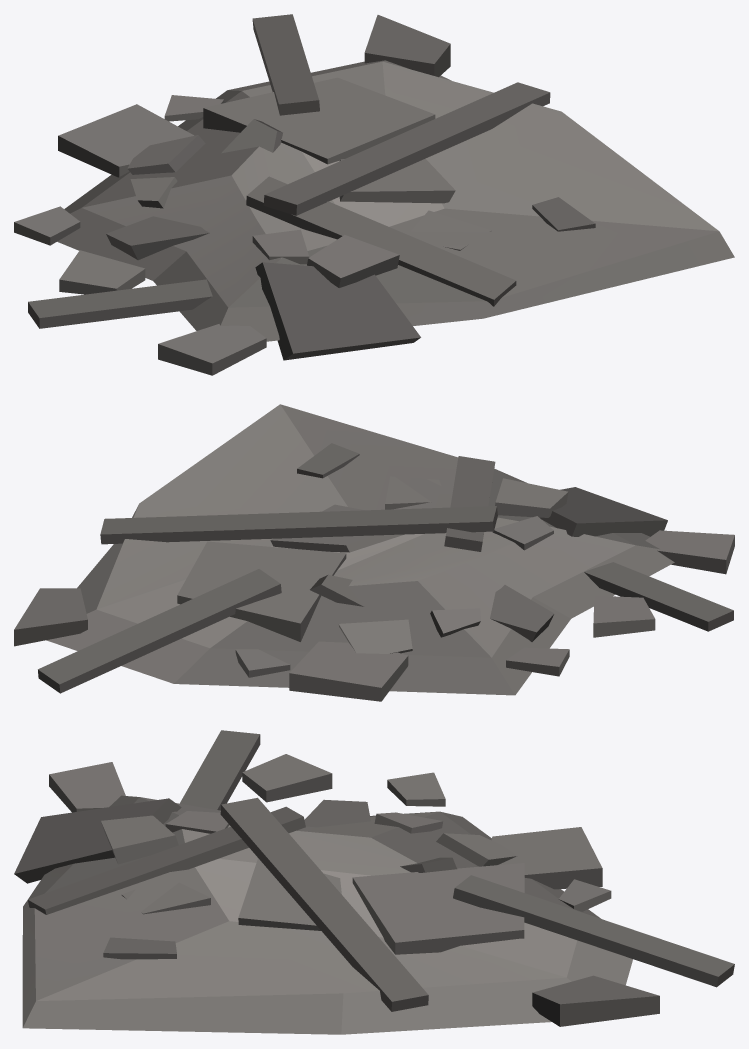
File: AI_Prop_Rubble_02.fbx
3 views of the same model, one above another, from view 1: azimuth 30°, elevation 25°; view 2: azimuth 150°, elevation 25°; view 3: azimuth 270°, elevation 25° (orthographic). The views are drawn at different scales.
Visible parts, largest first — view 1: AI_Prop_Rubble_02; view 2: AI_Prop_Rubble_02; view 3: AI_Prop_Rubble_02.
Boxes of the visible parts, x1,y1,x2,y2 form: AI_Prop_Rubble_02: [14, 14, 734, 375]; AI_Prop_Rubble_02: [14, 404, 734, 701]; AI_Prop_Rubble_02: [14, 730, 734, 1034].
Size of the model in its own units: 5.73 by 0.7455 by 6.03.
